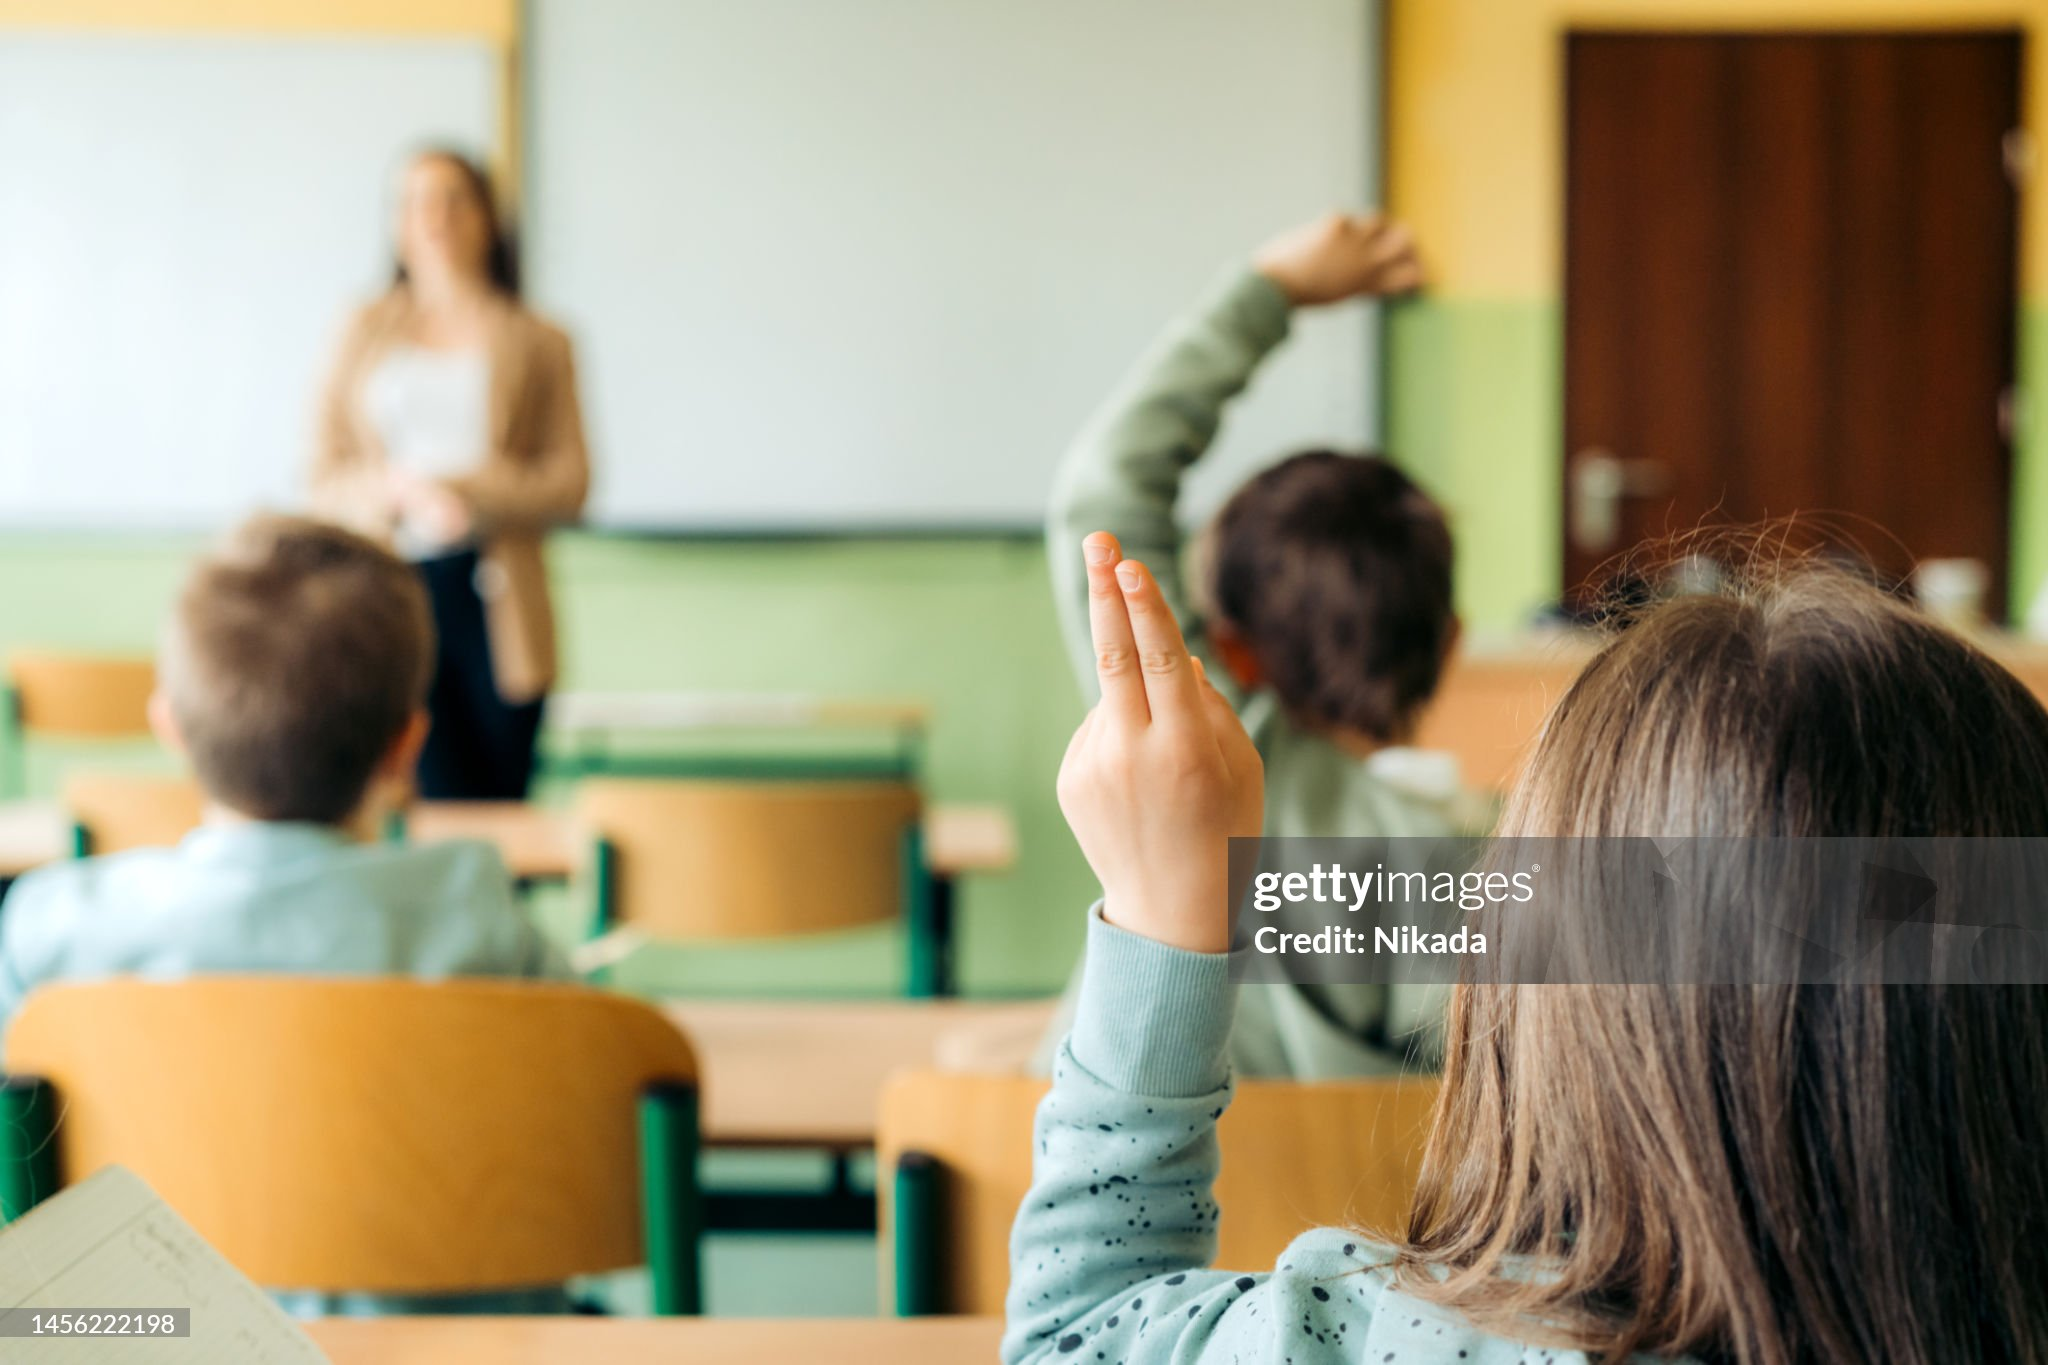entre30-50-porcento: (2, 195, 2042, 1365)
